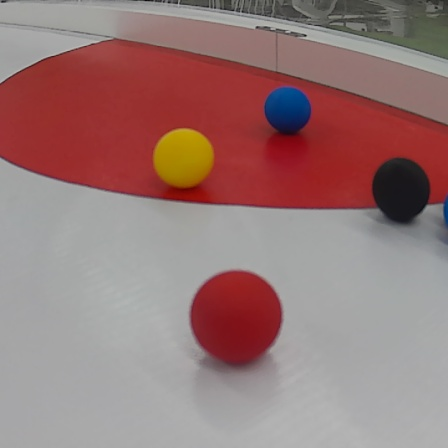black: (368, 154, 435, 224)
blue: (268, 85, 316, 140)
red: (188, 269, 284, 365)
red_base: (1, 38, 448, 209)
yellow: (153, 127, 214, 188)
